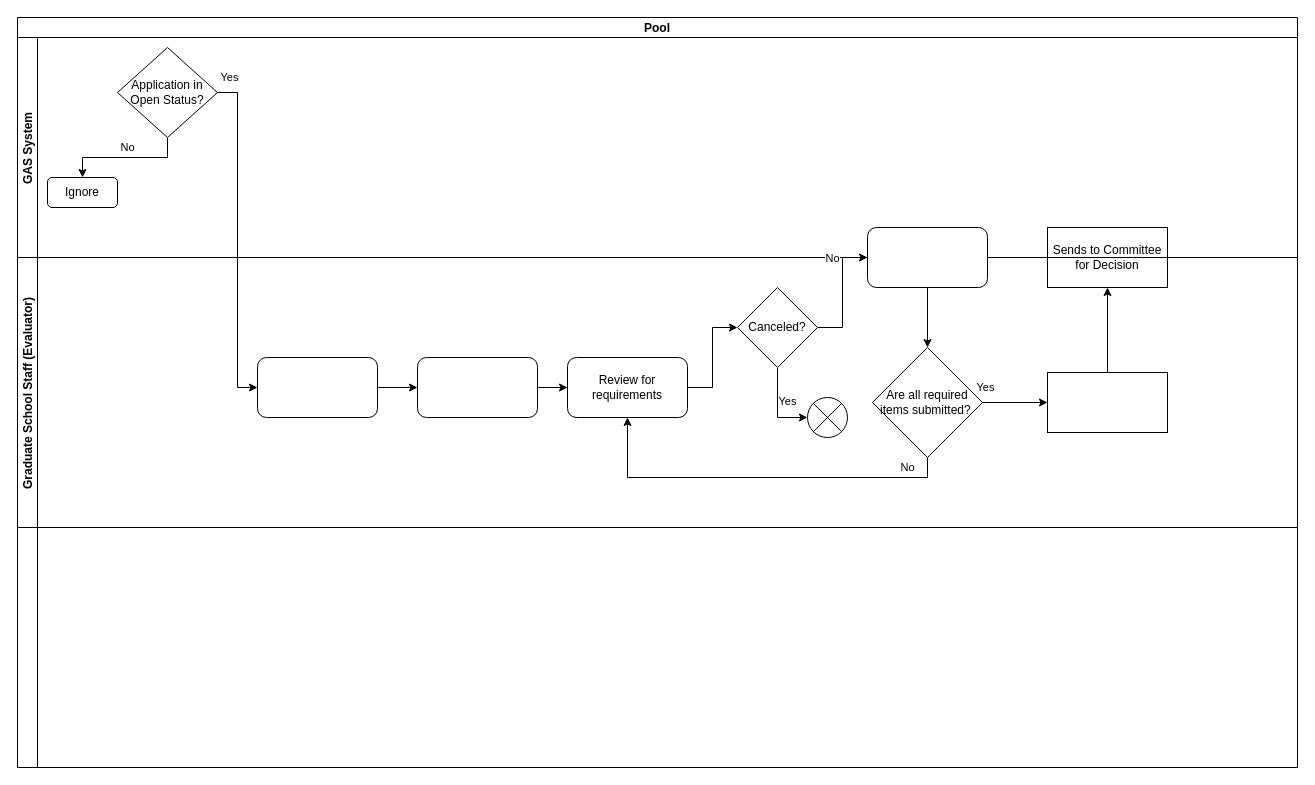
Image size: 1315x785. Some labels were removed from this diagram. The box of each missing label's shape, as (x1, y1, x2, y2) in pixels:
FA Committee: (16, 526, 1298, 768)
Make application "theirs": (416, 356, 538, 418)
Select the application: (256, 356, 378, 418)
Set status to "Ready to be Evaluated": (1046, 372, 1168, 432)
Verify GPA and Scores: (866, 226, 988, 288)
